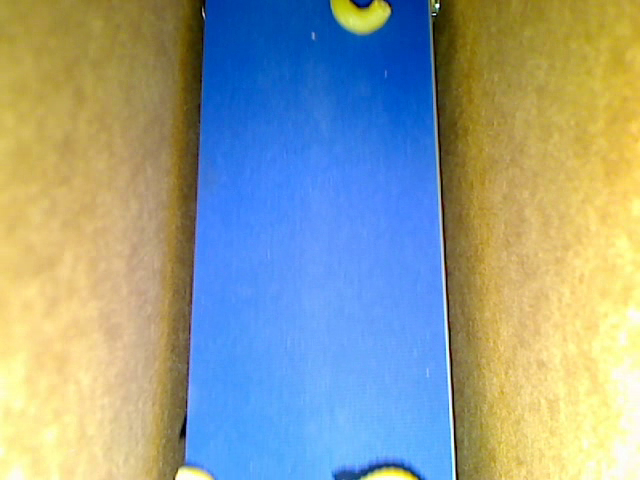elbow: (330, 1, 390, 36)
